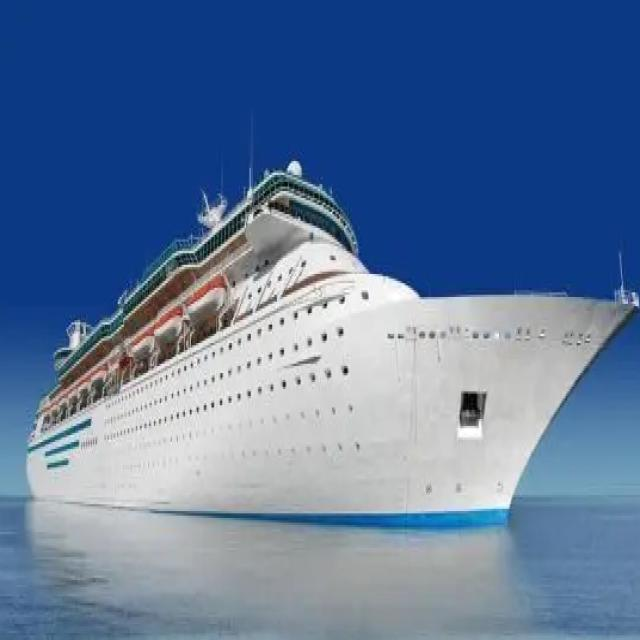passenger ship: (24, 164, 640, 520)
